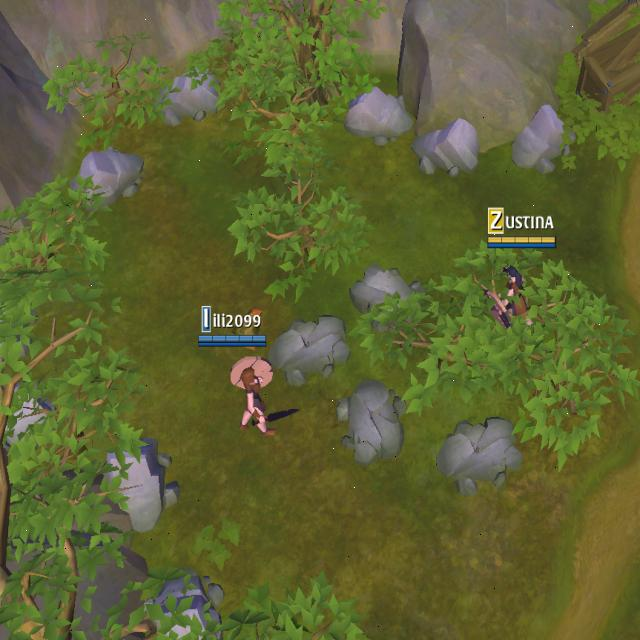broken stone: (434, 406, 533, 496), (329, 373, 416, 473), (354, 255, 430, 341), (270, 317, 356, 386)
stone: (93, 428, 196, 540), (147, 53, 226, 144), (328, 70, 421, 147), (69, 142, 154, 214), (411, 108, 483, 190), (510, 97, 579, 178)
